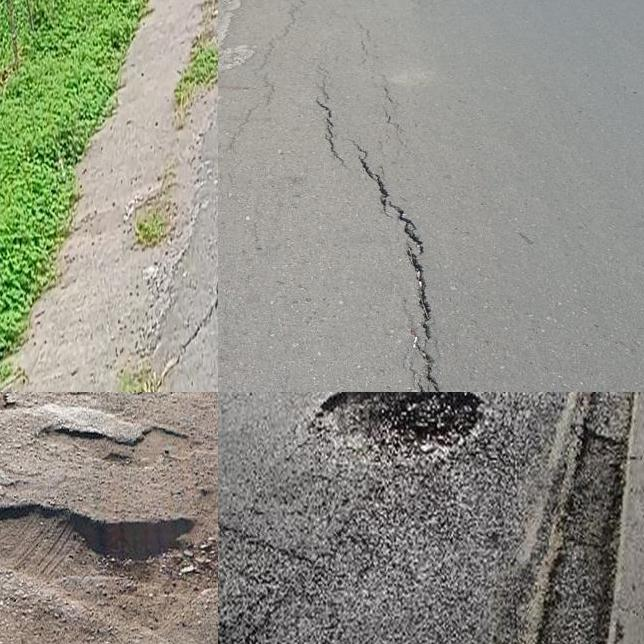Lubang: (0, 497, 218, 601), (324, 392, 488, 461)
Memanjang: (304, 84, 451, 392), (153, 191, 218, 376)
